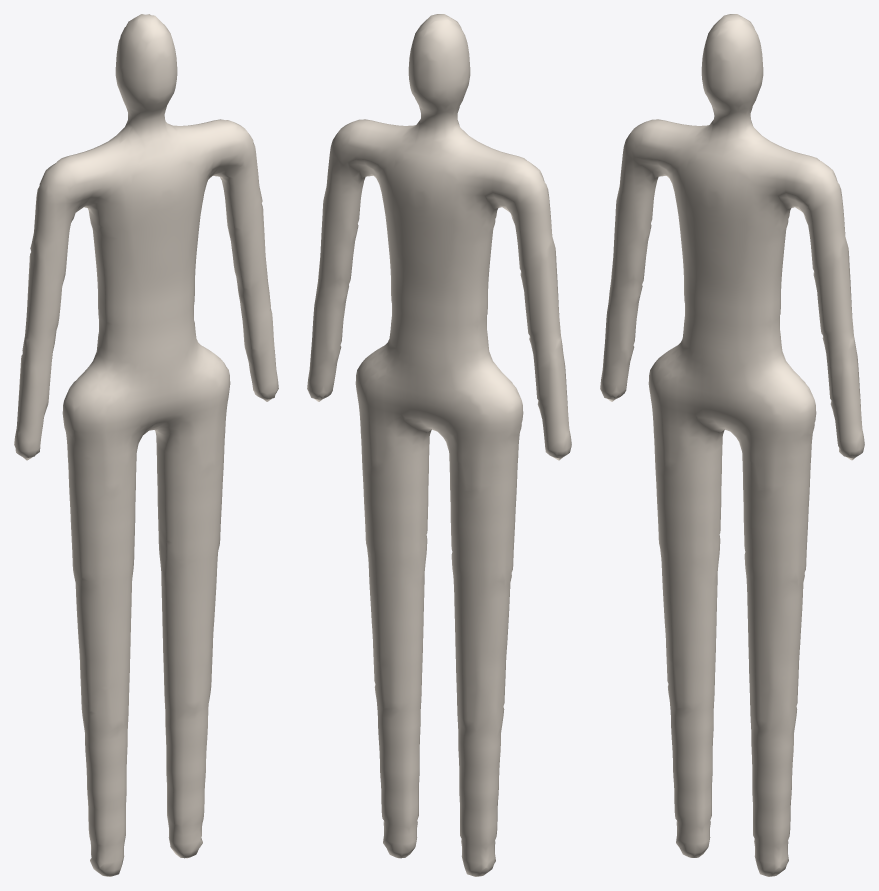
File: mannequin.glb
3 views of the same model, side by side, from view 1: azimuth 30°, elevation 25°; view 2: azimuth 150°, elevation 25°; view 3: azimuth 330°, elevation 25° (orthographic).
Visible parts, largest first — view 1: MannequinBody; view 2: MannequinBody; view 3: MannequinBody.
Part boxes in pixels (box(x1,y1,x2,y2)): MannequinBody: box(14, 14, 278, 876); MannequinBody: box(307, 14, 571, 876); MannequinBody: box(600, 14, 864, 876).
Bounding box in the file's own units: 0.5429 × 1.7 × 0.1445.
